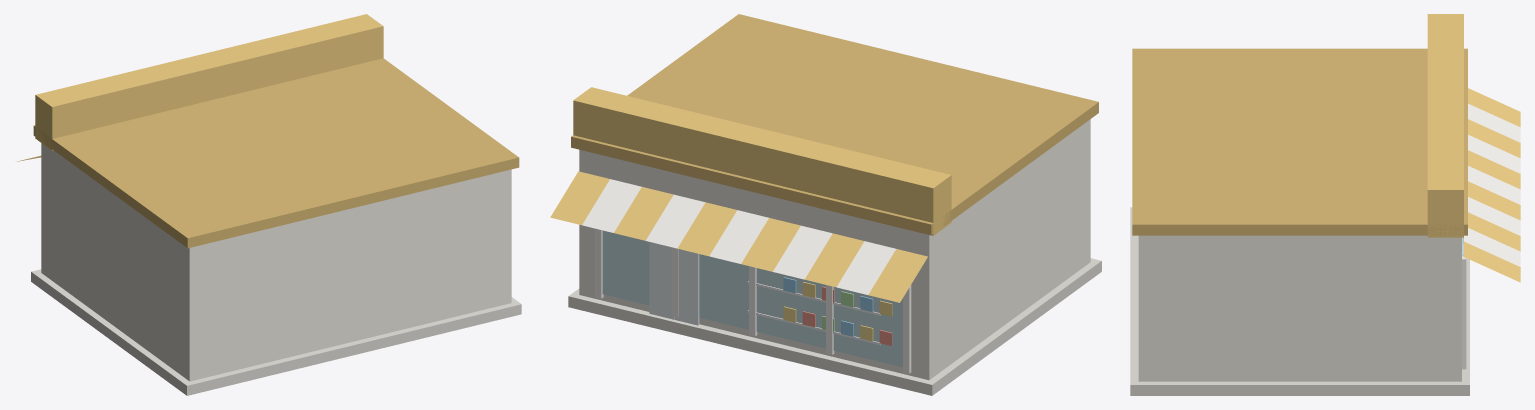
Rendered from shop_non.glb.
The picture shows the model from 3 angles, left to right: view 1: azimuth 30°, elevation 25°; view 2: azimuth 150°, elevation 25°; view 3: azimuth 270°, elevation 25°; orthographic projection. The views are drawn at different scales.
Visible parts, largest first — view 1: ShopNon; view 2: ShopNon; view 3: ShopNon.
Boxes of the visible parts, left/top/right/bottom form: ShopNon: left=17, top=14, right=521, bottom=395; ShopNon: left=550, top=14, right=1101, bottom=395; ShopNon: left=1130, top=14, right=1520, bottom=395.
Bounding box in the file's own units: 10.4 × 5.6 × 9.65.
